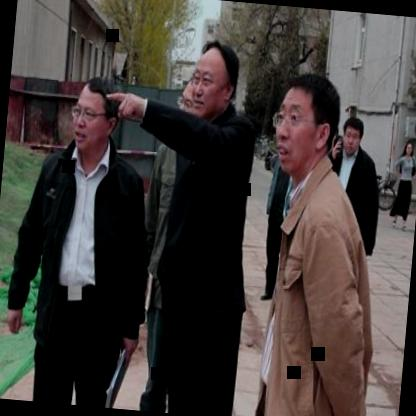head: (268, 64, 340, 174), (184, 34, 245, 123), (68, 74, 119, 156), (340, 113, 366, 160), (402, 138, 414, 158)
